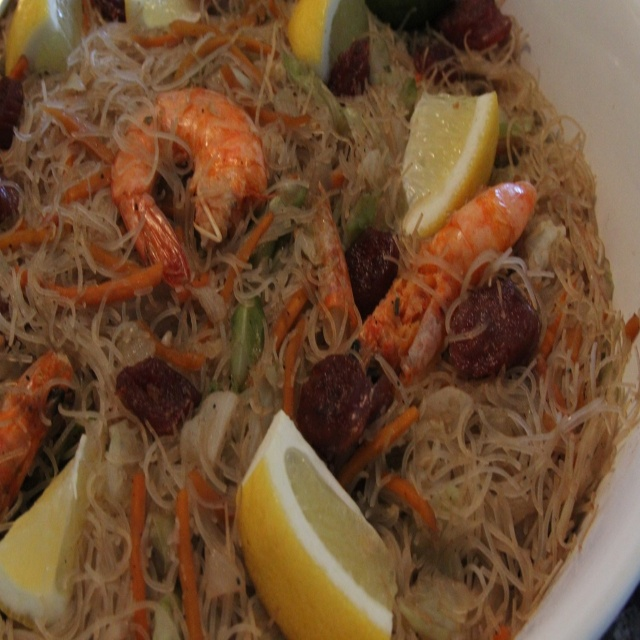Shrimp: (353, 184, 531, 376), (109, 86, 270, 290), (0, 351, 77, 516)
